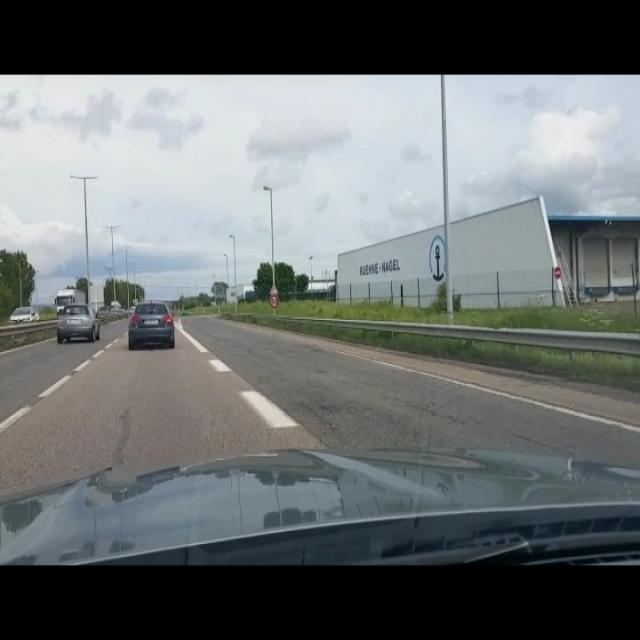speed_50: (269, 294, 280, 308)
turn_right: (269, 283, 280, 294)
